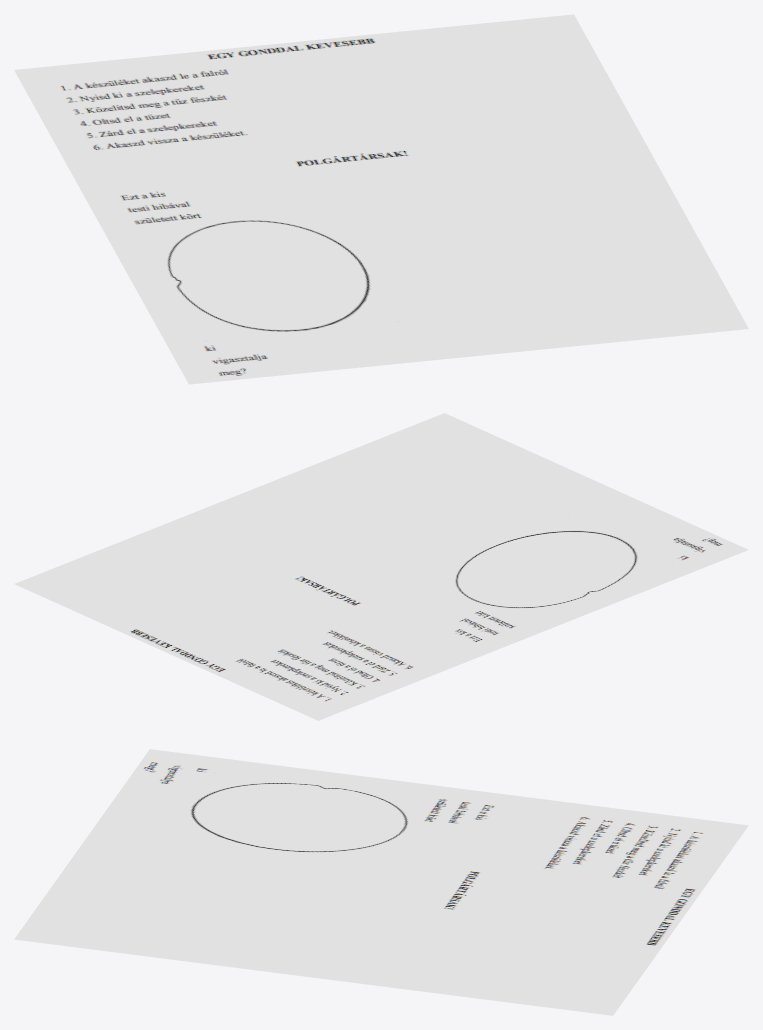
File: prop_paper.glb
3 views of the same model, one above another, from view 1: azimuth 30°, elevation 25°; view 2: azimuth 150°, elevation 25°; view 3: azimuth 270°, elevation 25° (orthographic). The views are drawn at different scales.
Parts seen in each view (by area): view 1: Plane; view 2: Plane; view 3: Plane.
Boxes of the visible parts, x1,y1,x2,y2 form: Plane: (14, 14, 748, 384); Plane: (14, 413, 748, 720); Plane: (14, 749, 748, 1015).
Bounding box in the file's own units: 0.5335 × 0 × 0.6211.
Materials: 1 (1 with a texture image).
